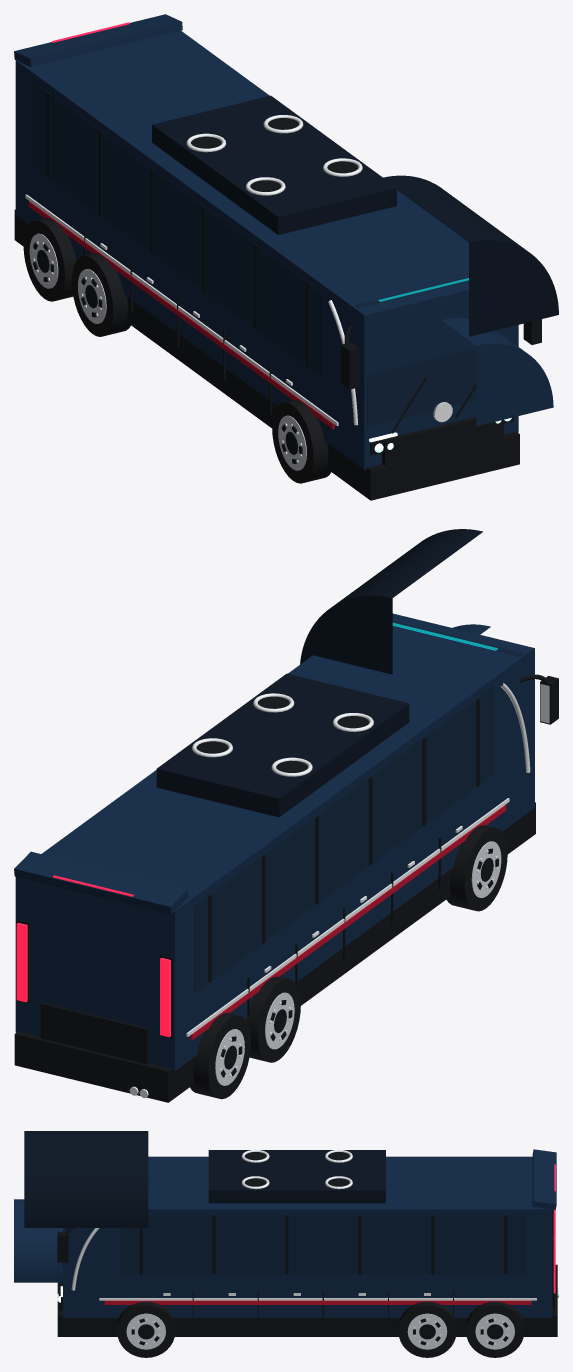
Rendered from bus_coach_heavy_duty.glb.
3 renders of one model, top to bottom at view 1: azimuth 30°, elevation 25°; view 2: azimuth 150°, elevation 25°; view 3: azimuth 270°, elevation 25°, orthographic. The views are drawn at different scales.
Visible parts, largest first — view 1: MarcopoloG8HeavyDuty; view 2: MarcopoloG8HeavyDuty; view 3: MarcopoloG8HeavyDuty.
Boxes of the visible parts, x1,y1,x2,y2 form: MarcopoloG8HeavyDuty: [14, 14, 558, 500]; MarcopoloG8HeavyDuty: [14, 529, 558, 1102]; MarcopoloG8HeavyDuty: [14, 1131, 558, 1357].
Bounding box in the file's own units: 3 × 4.16 × 10.47.
